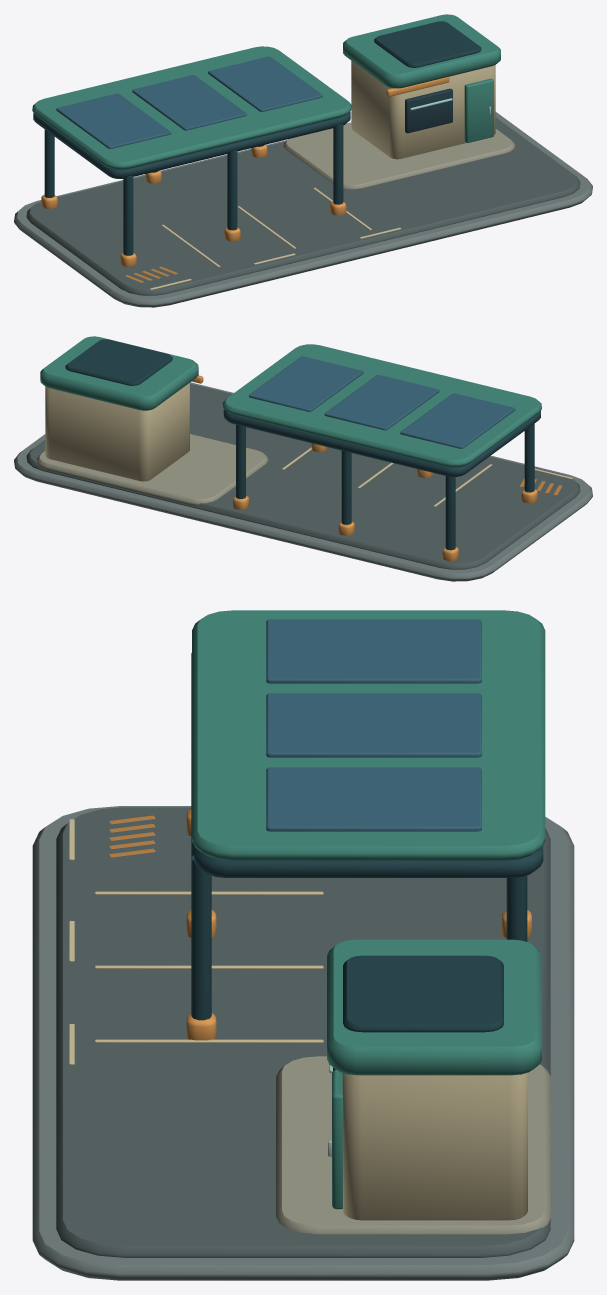
Rendered from depot.glb.
3 renders of one model, top to bottom at view 1: azimuth 30°, elevation 25°; view 2: azimuth 150°, elevation 25°; view 3: azimuth 270°, elevation 25°, orthographic. The views are drawn at different scales.
Parts seen in each view (by area): view 1: Depot; view 2: Depot; view 3: Depot.
Boxes of the visible parts, x1,y1,x2,y2 form: Depot: [14, 14, 592, 307]; Depot: [14, 336, 592, 581]; Depot: [32, 610, 574, 1280].
Bounding box in the file's own units: 14 × 3.29 × 6.9.
